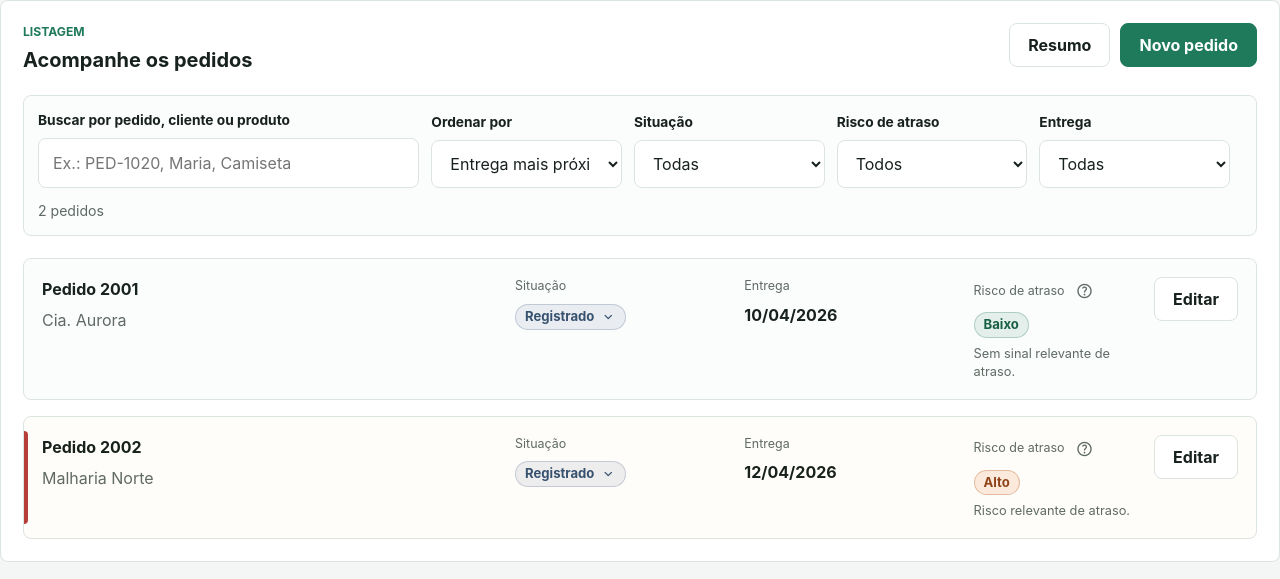
Test: OrdersListPageComponent › filtra pedidos por busca, situação e risco
This screenshot has width=1280, height=579.
Step 1. Type "aurora" into the search field named "search" → x=229, y=163, box [38,138,419,188]
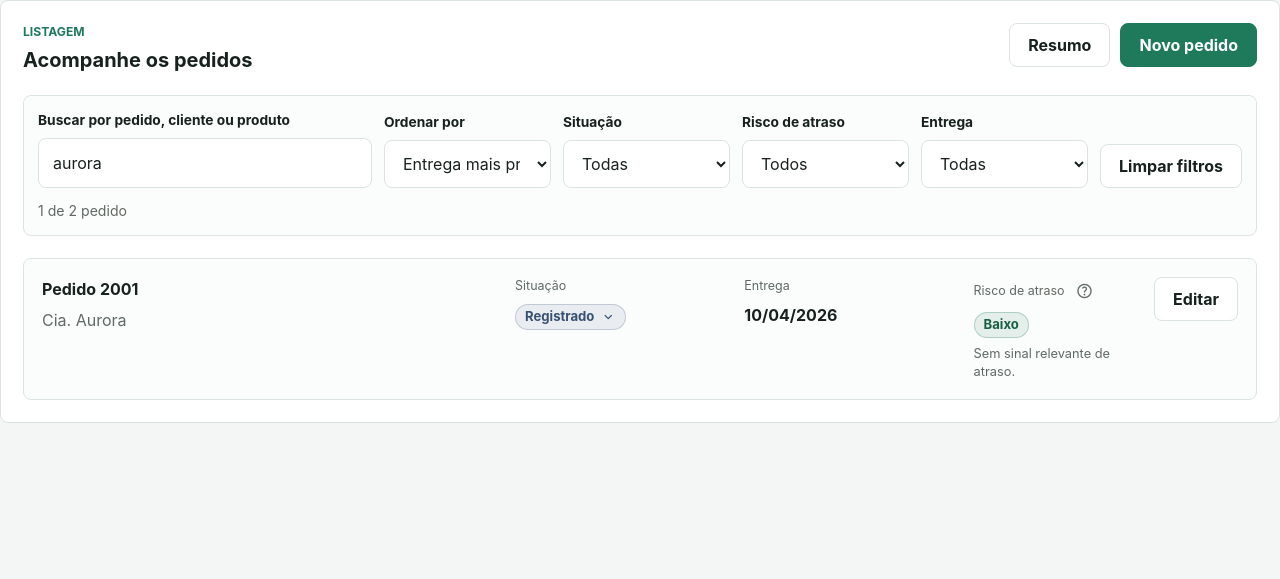
Expected: the text "Pedido 2001" is shown, [42,279,138,299]
Now the text "Pedido 2002" is gone
Now the text "1 de 2 pedido" is shown, box [38,202,127,219]
Step 2. Select "Alto" in the dropdown named "risk" → x=826, y=164, box [742,140,909,188]
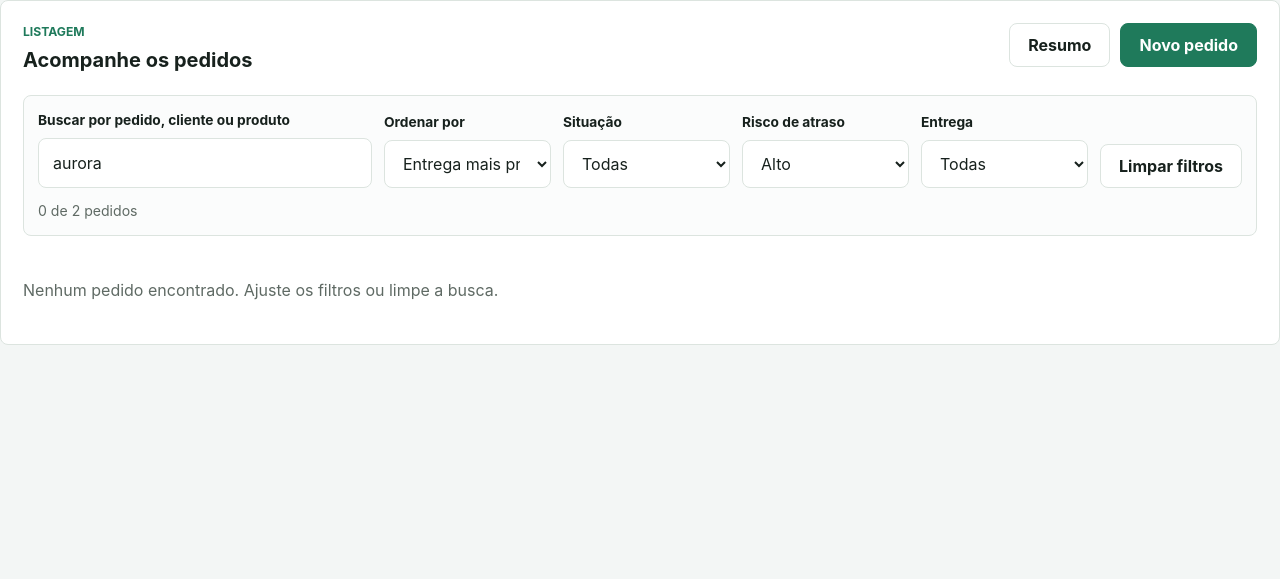
Now the text "Limpar filtros" is shown, box [1100,144,1242,188]
Now the text "Nenhum pedido encontrado." is shown, box [23,280,498,300]
